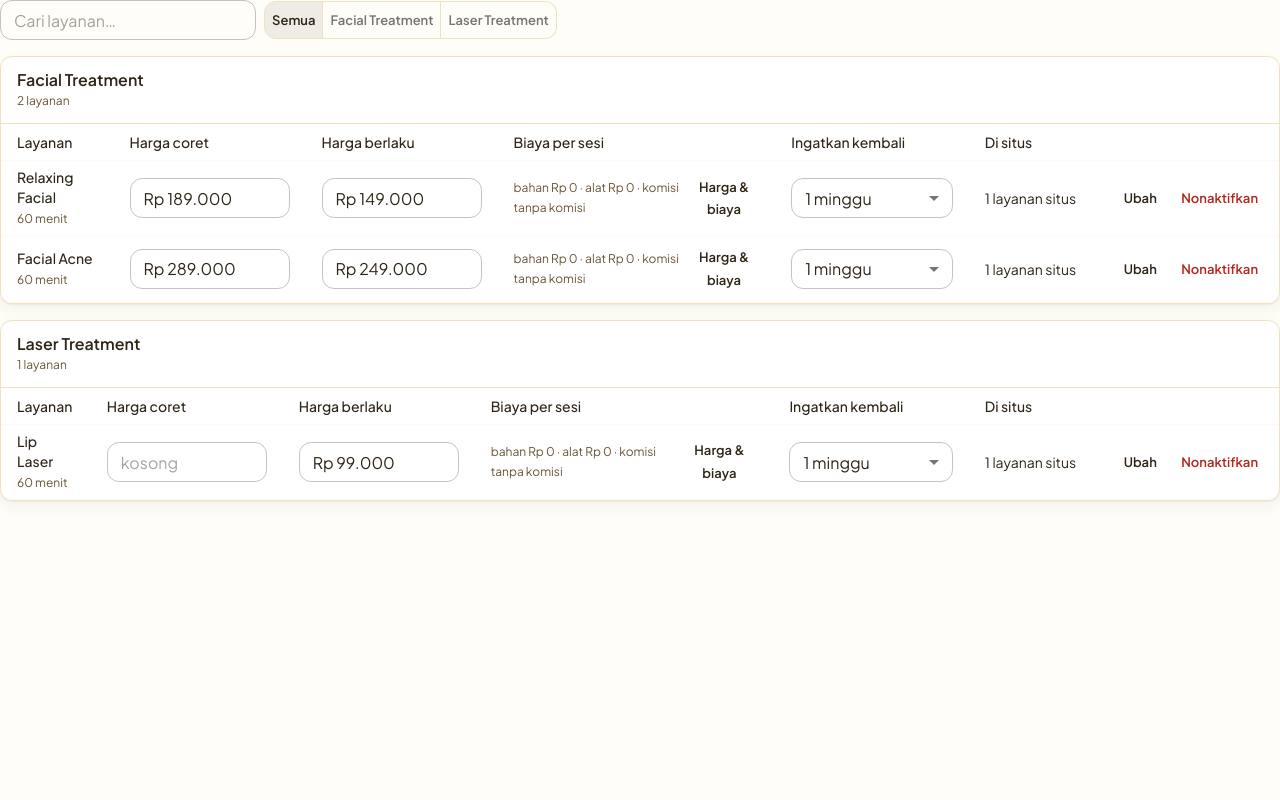
Scenario: ServicePriceTable (spec D 5.4) › harga yang baru disimpan di baris ikut terbawa ke dialog Harga & biaya, sehingga dialog tidak menimpa dengan harga lama
Replace the text in the field named "Harga berlaku Relaxing Facial" with "160000": (402, 198) x1=322 y1=178 x2=482 y2=218
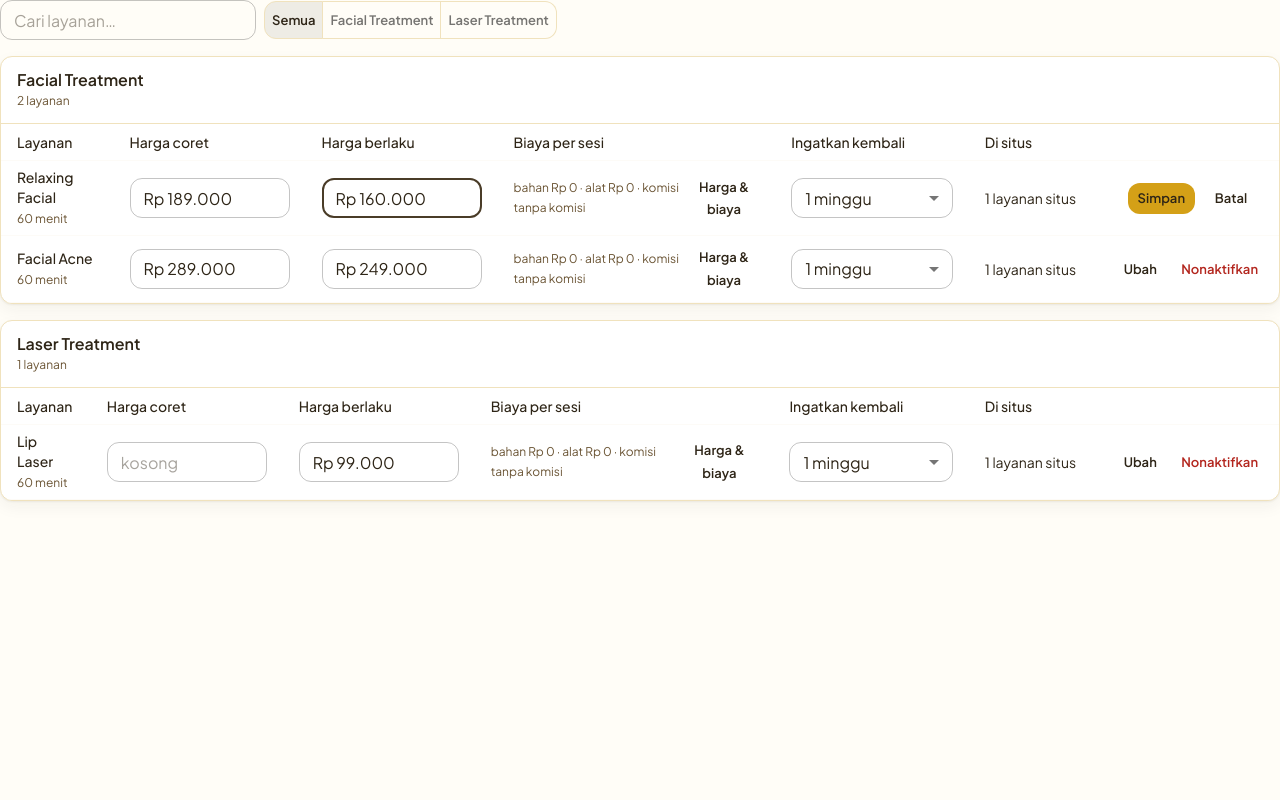
Click the button "Simpan": (1161, 198) x1=1128 y1=183 x2=1195 y2=214
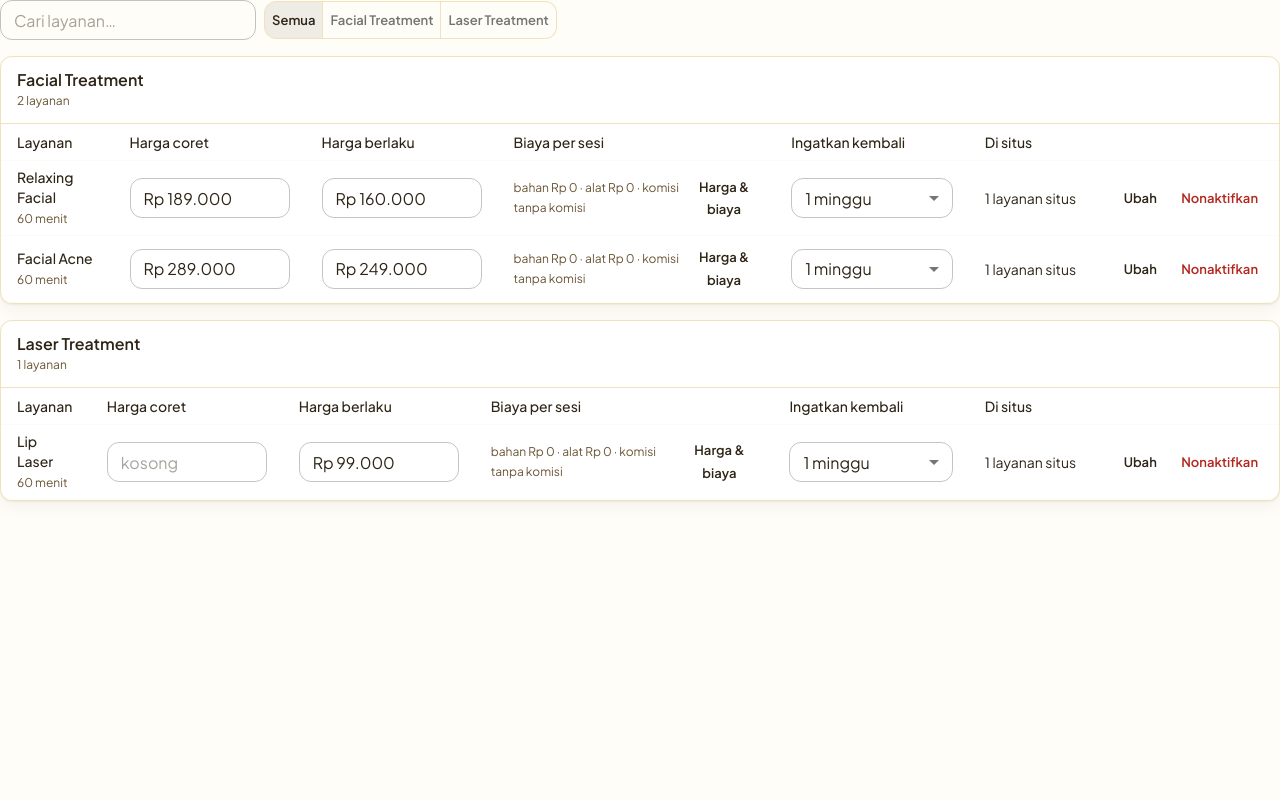
Expected: the button "Simpan" is gone
Click the button with aria-label "Harga & biaya Relaxing Facial": (724, 198) x1=689 y1=172 x2=759 y2=225
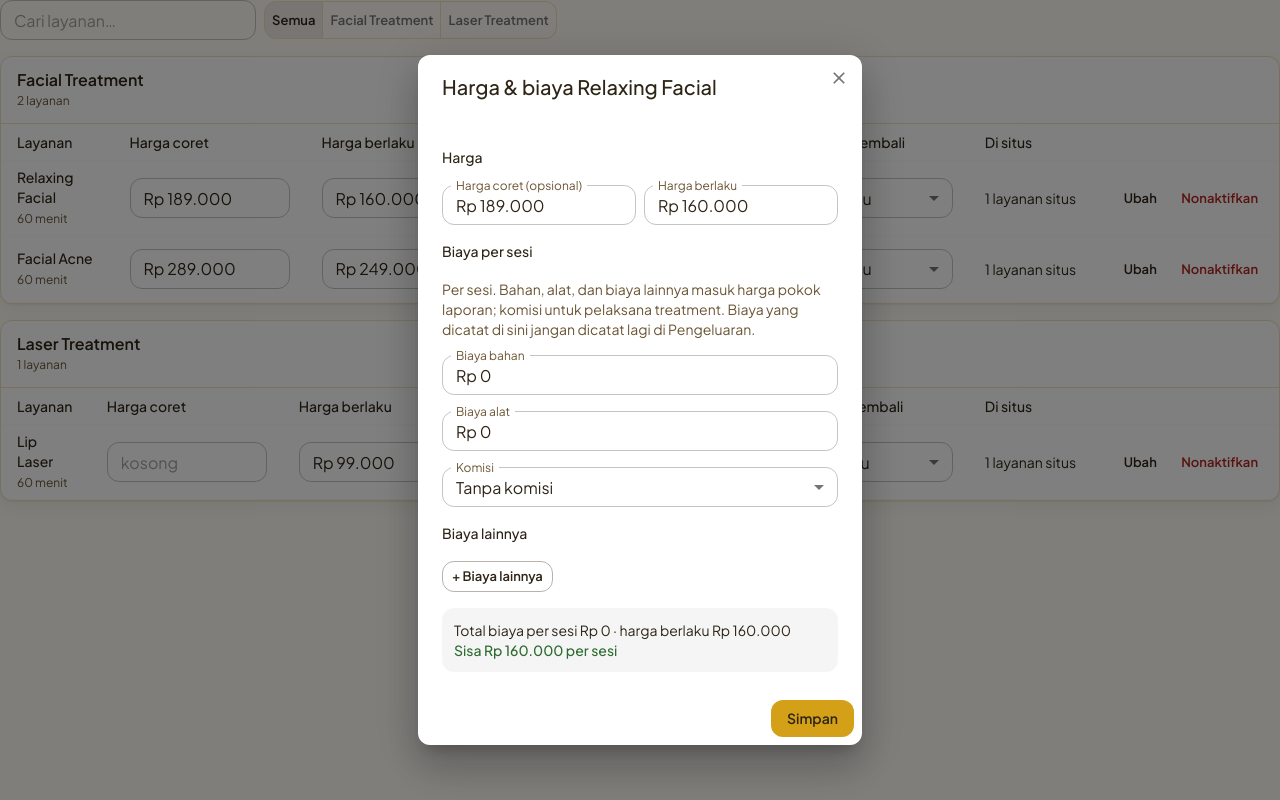
Expected: the field labelled "Harga berlaku" holds "Rp 160.000", x1=644 y1=185 x2=838 y2=225
